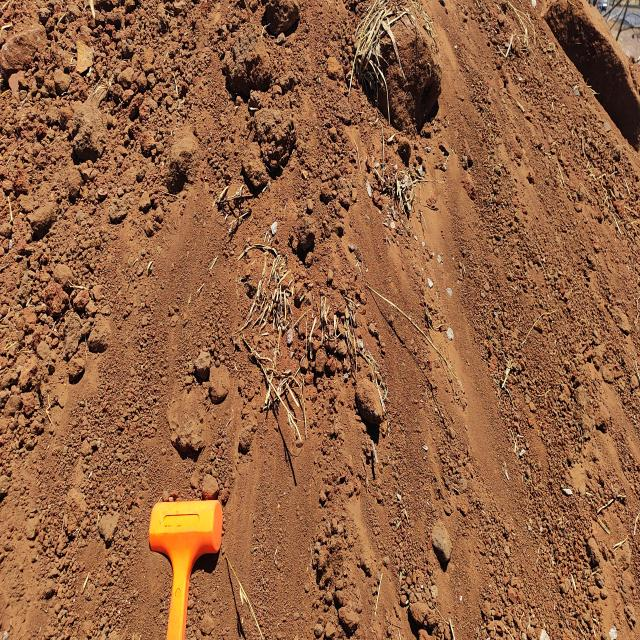Orange_hammer: (148, 498, 223, 638)
